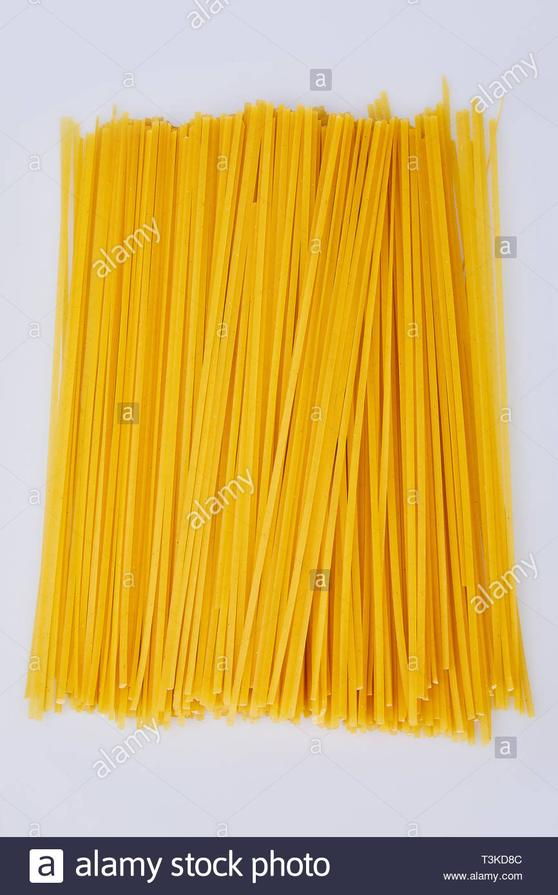spaghetti: (52, 113, 540, 739)
